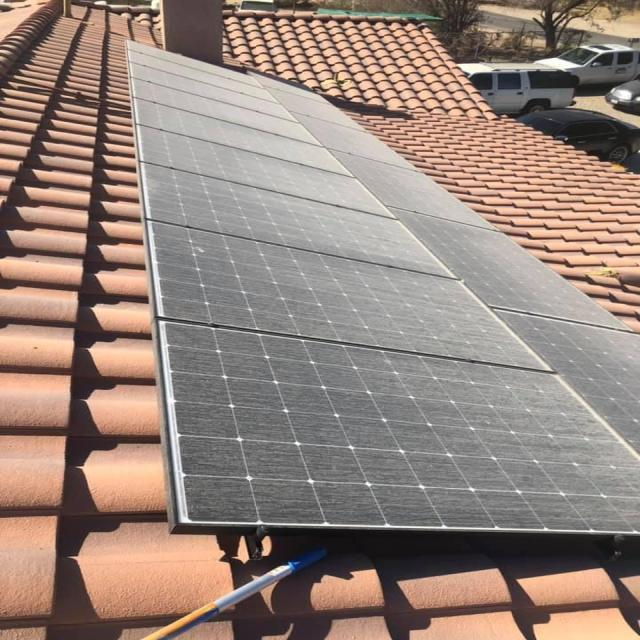soiled: (100, 38, 626, 534)
